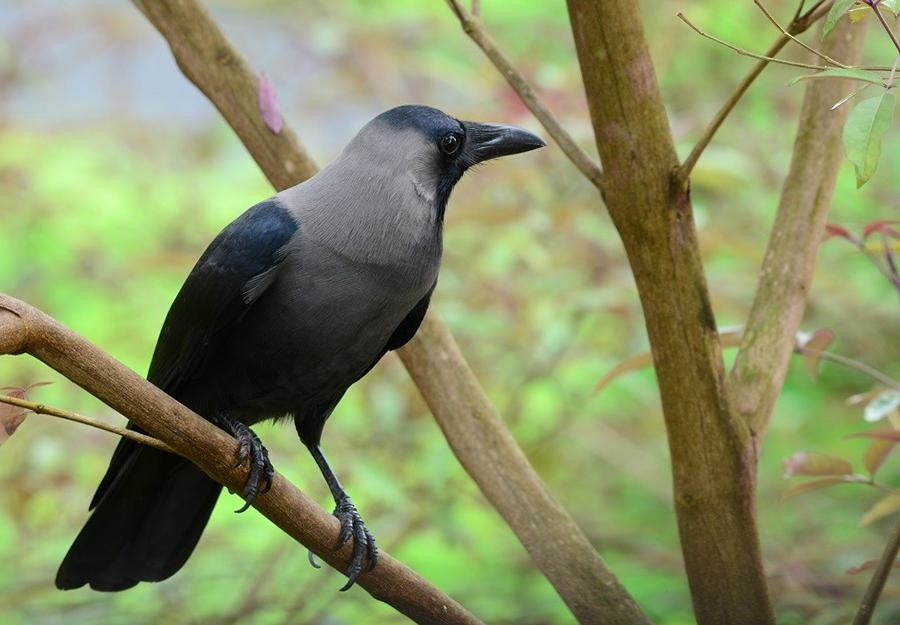crow: (52, 102, 555, 605)
